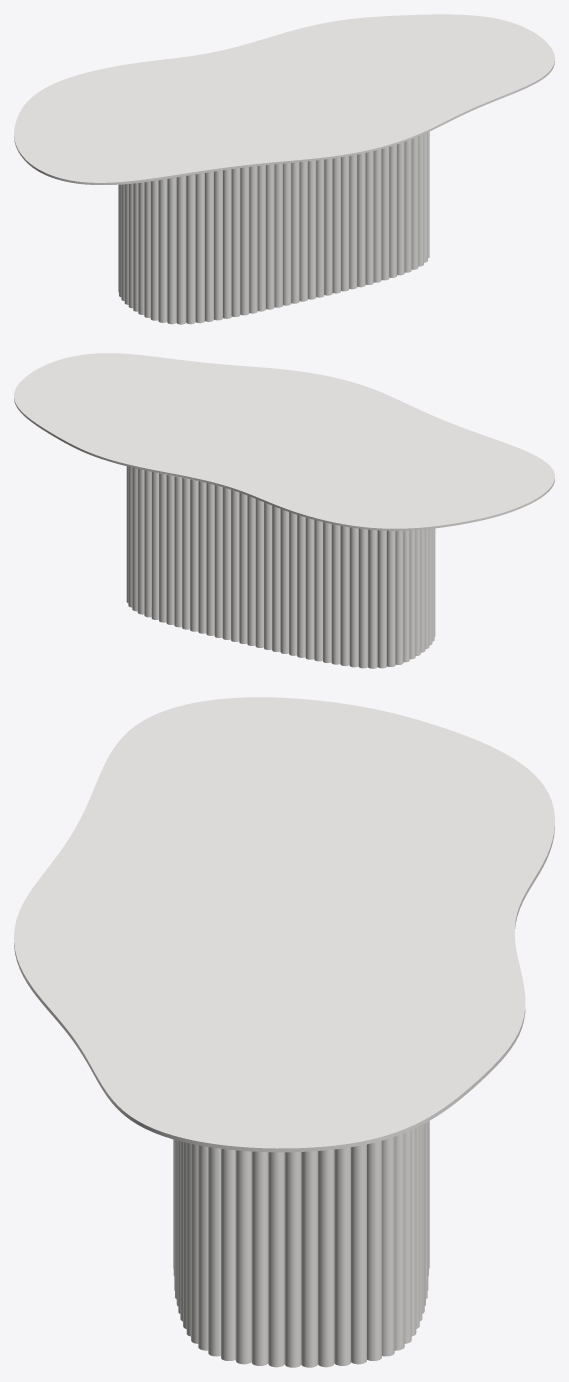
The model's file is purewhite_toplast_facet_newtable.glb.
3 renders of one model, top to bottom at view 1: azimuth 30°, elevation 25°; view 2: azimuth 150°, elevation 25°; view 3: azimuth 270°, elevation 25°, orthographic. The views are drawn at different scales.
Visible parts, largest first — view 1: facet_toplast, newtable; view 2: facet_toplast, newtable; view 3: facet_toplast, newtable.
Boxes of the visible parts, left/top/right/bottom form: facet_toplast: left=14, top=14, right=554, bottom=184; newtable: left=118, top=131, right=429, bottom=324; facet_toplast: left=14, top=353, right=554, bottom=530; newtable: left=126, top=466, right=435, bottom=668; facet_toplast: left=14, top=697, right=554, bottom=1152; newtable: left=173, top=1121, right=429, bottom=1367.
Bounding box in the file's own units: 7.5 × 2.5 × 3.8.
2 materials, 2 textured.
